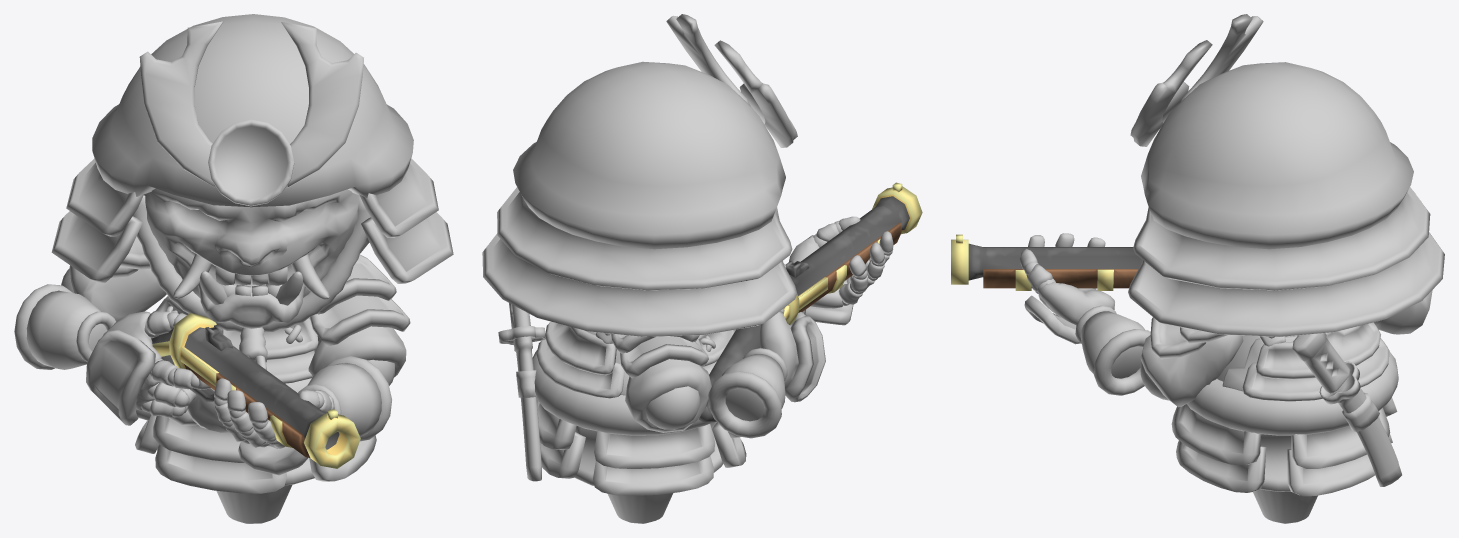
The model's file is armor_low.fbx.
The picture shows the model from 3 angles, left to right: view 1: azimuth 30°, elevation 25°; view 2: azimuth 150°, elevation 25°; view 3: azimuth 270°, elevation 25°; orthographic projection. The views are drawn at different scales.
Visible parts, largest first — view 1: helmet_low, mask_low, gun_low, hand_L_low, armor_body_bottom_low, hand_armor_L_low, head_rope_low, arm_armor_R_low, hand_R_low, hand_armor_R_low, teeth_low, arm_L_low (+5 smaller); view 2: helmet_low, armor_body_bottom_low, gun_low, armor_body_low, hand_armor_L_low, arm_L_low, rope_low, hand_R_low, hand_L_low, sword_low, arm_armor_L_low, body_low; view 3: helmet_low, armor_body_bottom_low, gun_low, rope_low, armor_body_low, sword_low, hand_armor_R_low, hand_R_low, arm_R_low, body_low, arm_armor_R_low, arm_L_low (+1 smaller).
Part boxes in pixels (<box>): helmet_low: <box>51,14,453,283</box>; mask_low: <box>144,188,359,328</box>; gun_low: <box>151,313,360,468</box>; hand_L_low: <box>86,311,210,425</box>; armor_body_bottom_low: <box>135,409,376,493</box>; hand_armor_L_low: <box>14,284,116,369</box>; head_rope_low: <box>133,195,370,369</box>; arm_armor_R_low: <box>310,254,410,346</box>; hand_R_low: <box>214,378,334,475</box>; hand_armor_R_low: <box>298,356,391,441</box>; teeth_low: <box>173,253,329,305</box>; arm_L_low: <box>61,265,166,321</box>; helmet_low: <box>482,14,797,336</box>; armor_body_bottom_low: <box>536,399,746,495</box>; gun_low: <box>698,182,922,422</box>; armor_body_low: <box>536,321,734,398</box>; hand_armor_L_low: <box>708,348,787,438</box>; arm_L_low: <box>625,359,712,432</box>; rope_low: <box>532,329,735,435</box>; hand_R_low: <box>789,216,893,325</box>; hand_L_low: <box>759,308,825,402</box>; sword_low: <box>498,303,545,481</box>; arm_armor_L_low: <box>611,333,708,378</box>; body_low: <box>608,493,673,523</box>; helmet_low: <box>1128,14,1444,336</box>; armor_body_bottom_low: <box>1171,397,1397,496</box>; gun_low: <box>951,234,1142,290</box>; rope_low: <box>1187,351,1398,435</box>; armor_body_low: <box>1242,322,1389,401</box>; sword_low: <box>1292,333,1401,486</box>; hand_armor_R_low: <box>1075,305,1150,395</box>; hand_R_low: <box>1019,233,1114,344</box>; arm_R_low: <box>1140,335,1243,407</box>; body_low: <box>1217,335,1317,523</box>; arm_armor_R_low: <box>1150,317,1227,359</box>; arm_L_low: <box>1374,290,1432,334</box>.
Bounding box in the file's own units: 4.07 × 5.74 × 5.47.
